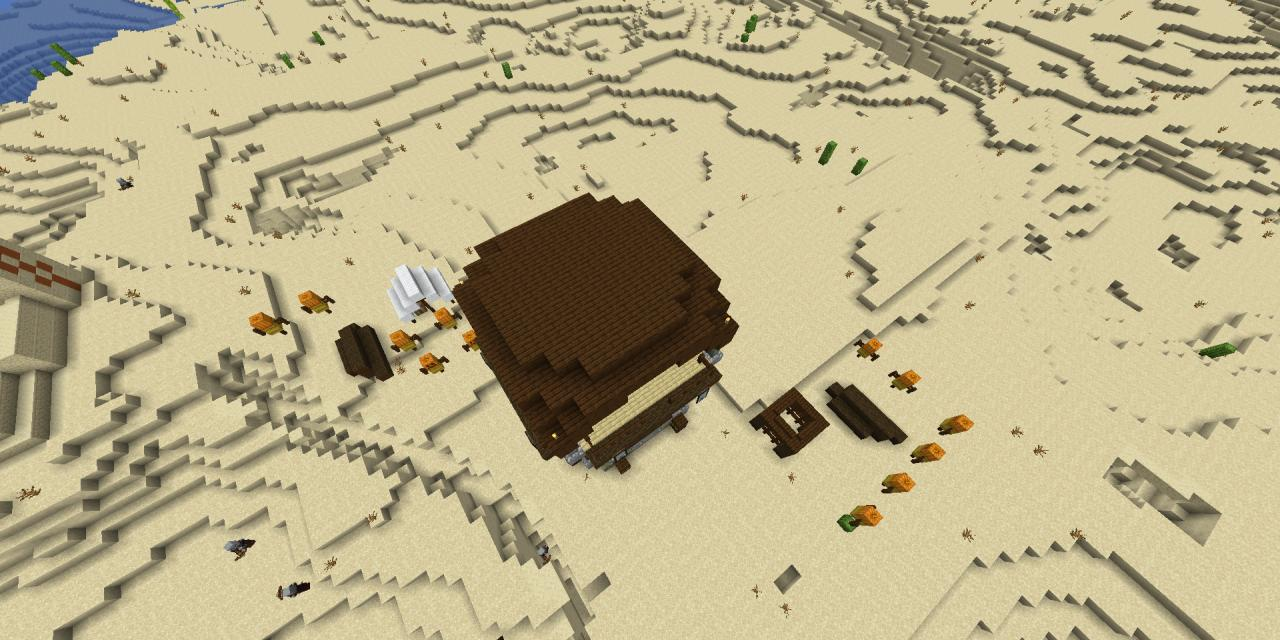pillager outpost: (448, 184, 747, 486)
